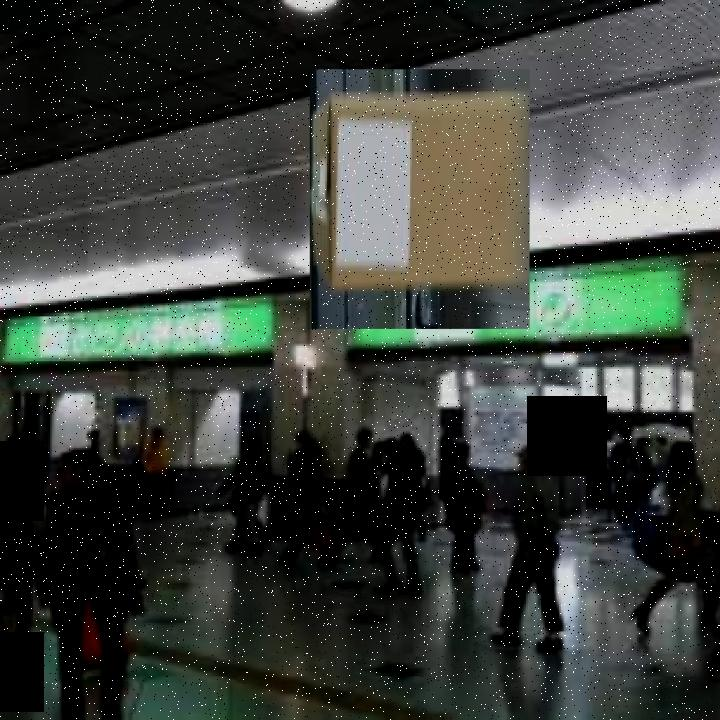box: (307, 66, 534, 334)
